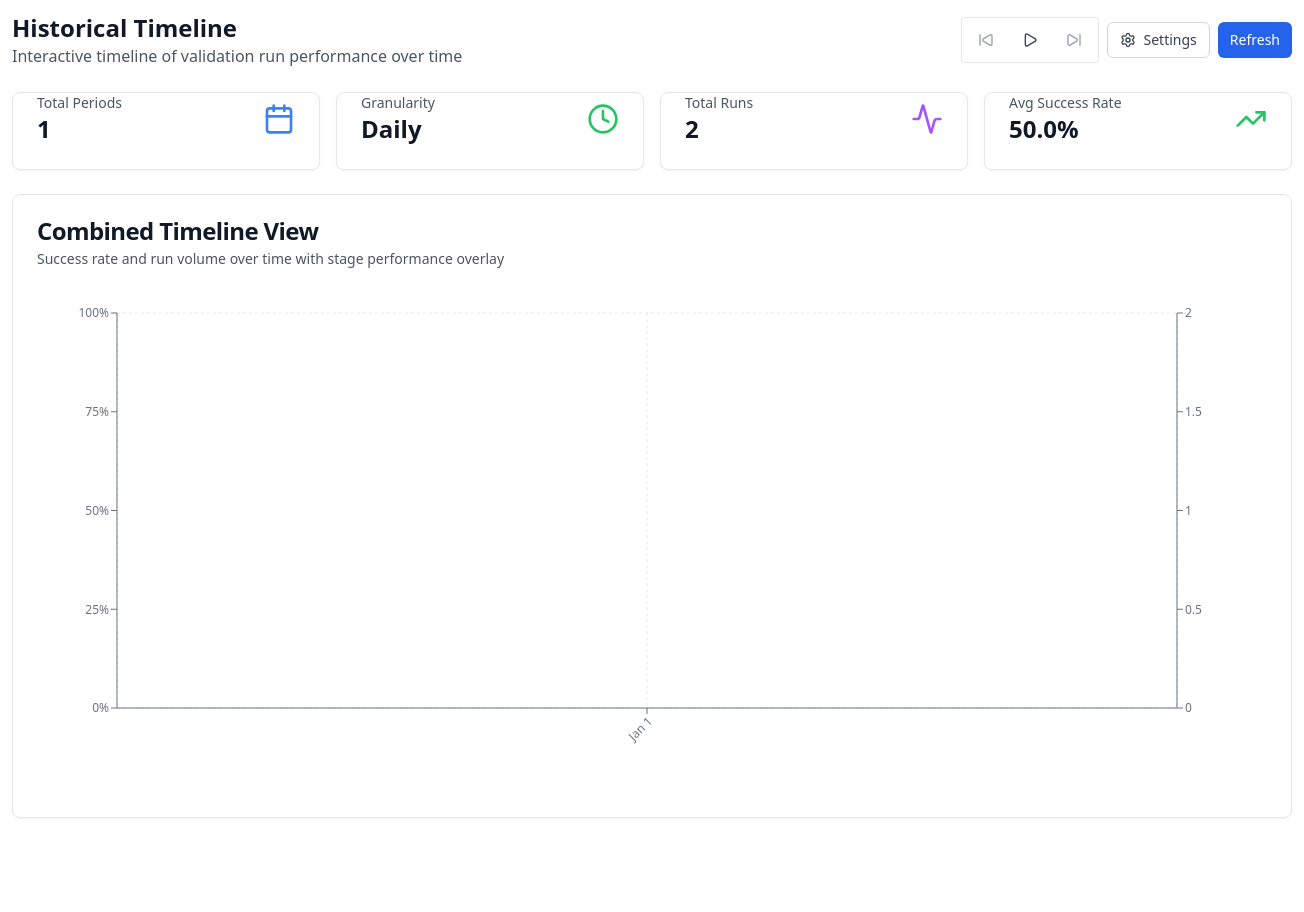
Test: HistoricalTimeline › handles settings panel toggle
The image size is (1304, 912).
Expected: the heading "Historical Timeline" is shown, [12,11,237,44]
Toggle settings panel
Click the button "Settings" at (1158, 40), box [1106,22,1210,58]
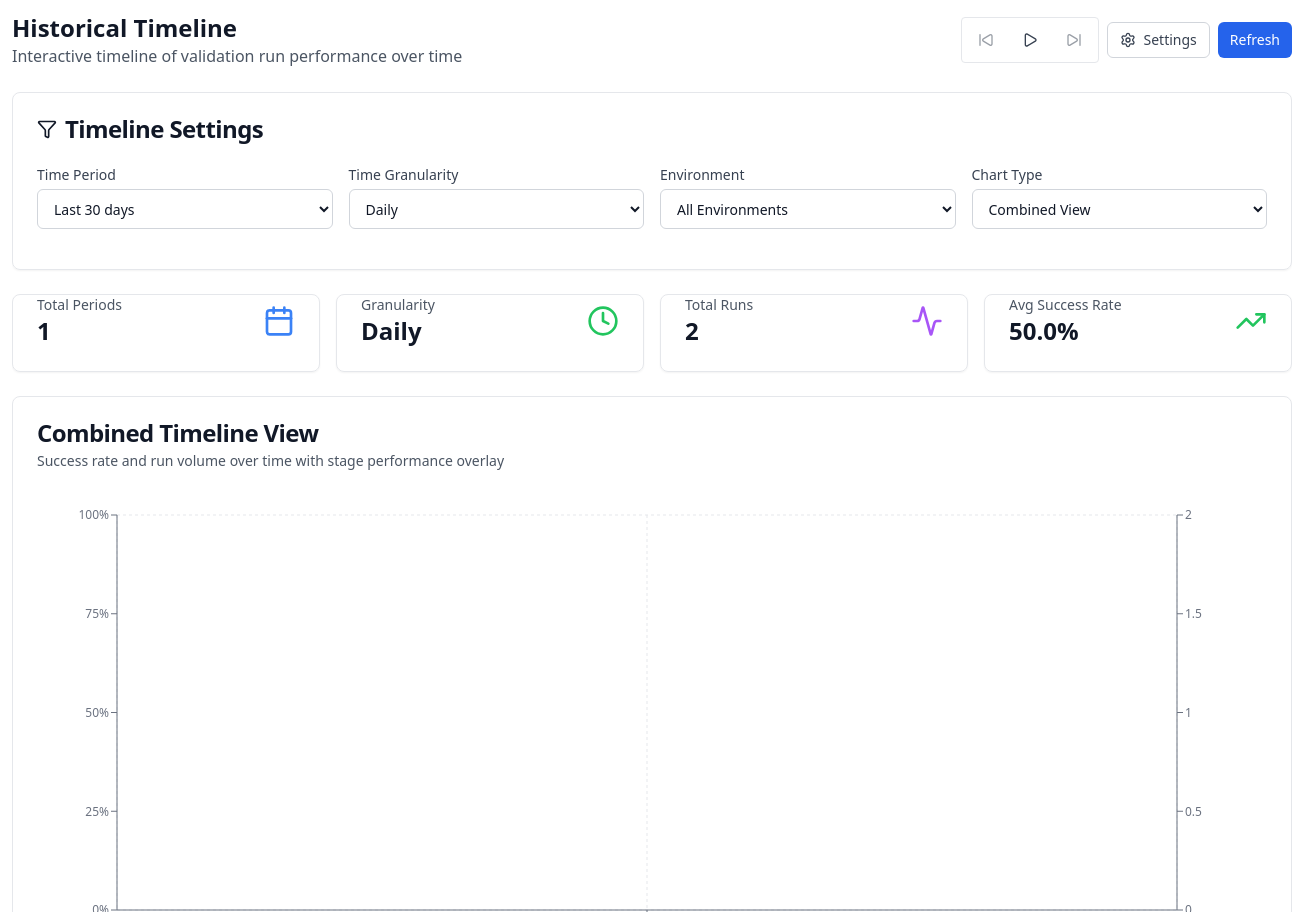
Now the heading "Timeline Settings" is shown, box [37,112,263,145]
Toggle off
Click the button "Settings" at (1158, 40), box [1106,22,1210,58]
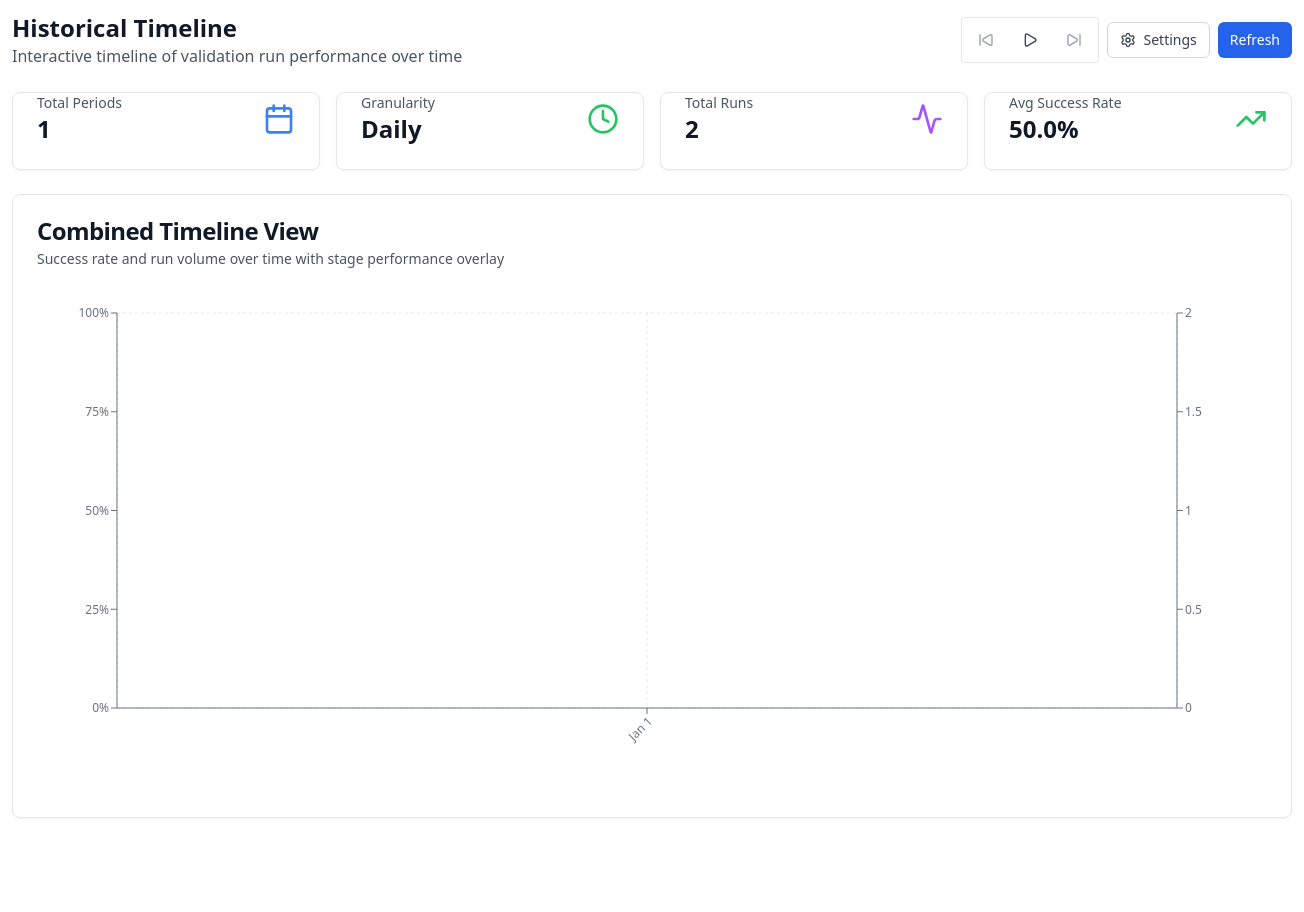
Now the heading "Timeline Settings" is gone
